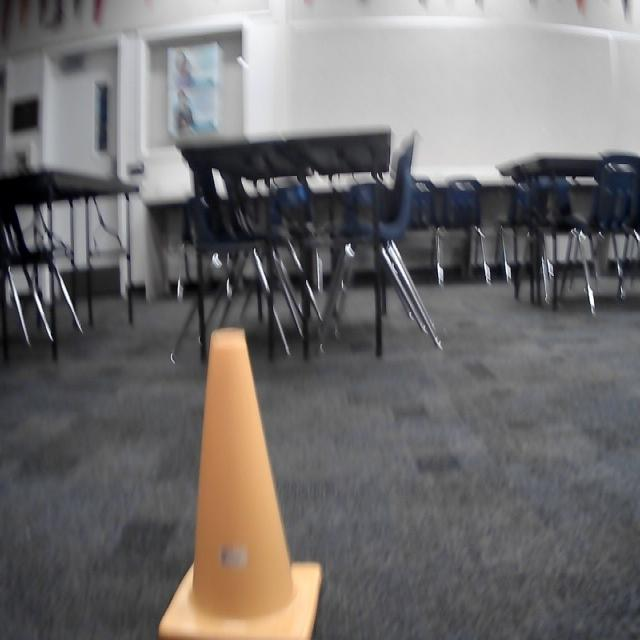cone: (158, 323, 324, 640)
